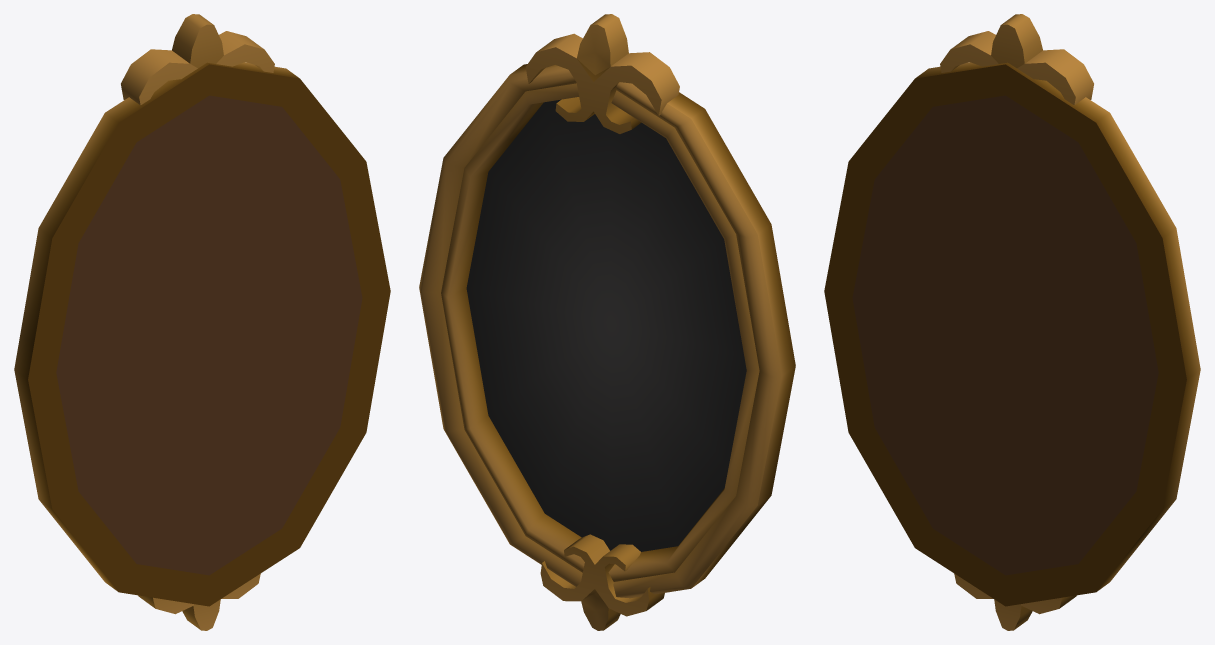
Rendered from ScryingMirror.fbx.
The picture shows the model from 3 angles, left to right: view 1: azimuth 30°, elevation 25°; view 2: azimuth 150°, elevation 25°; view 3: azimuth 330°, elevation 25°; orthographic projection.
Parts seen in each view (by area): view 1: ScryingMirror; view 2: ScryingMirror; view 3: ScryingMirror.
Part boxes in pixels (left/top/right/bottom): ScryingMirror: left=14, top=14, right=390, bottom=630; ScryingMirror: left=419, top=14, right=795, bottom=630; ScryingMirror: left=824, top=14, right=1200, bottom=630.
Bounding box in the file's own units: 37.68 × 60.19 × 3.73.
